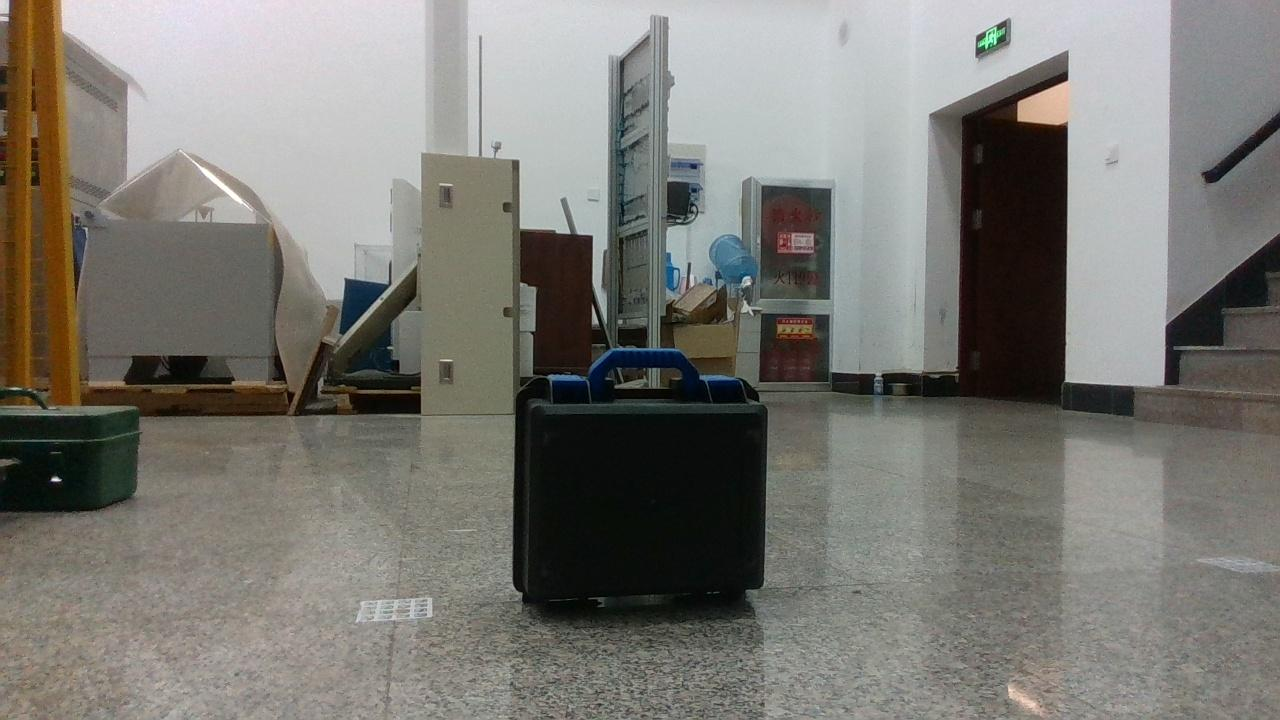toolkit: (512, 348, 768, 601)
